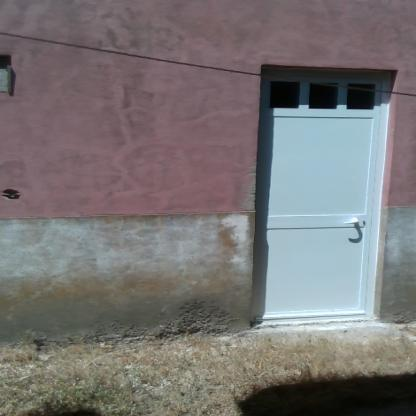door: (265, 70, 376, 322)
lever: (342, 217, 366, 226)
